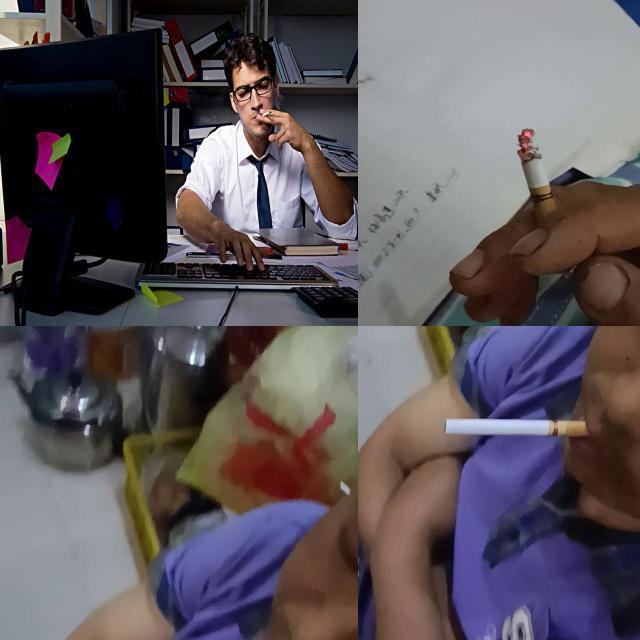smoking: (518, 128, 568, 252), (447, 419, 591, 438), (259, 110, 272, 118)
